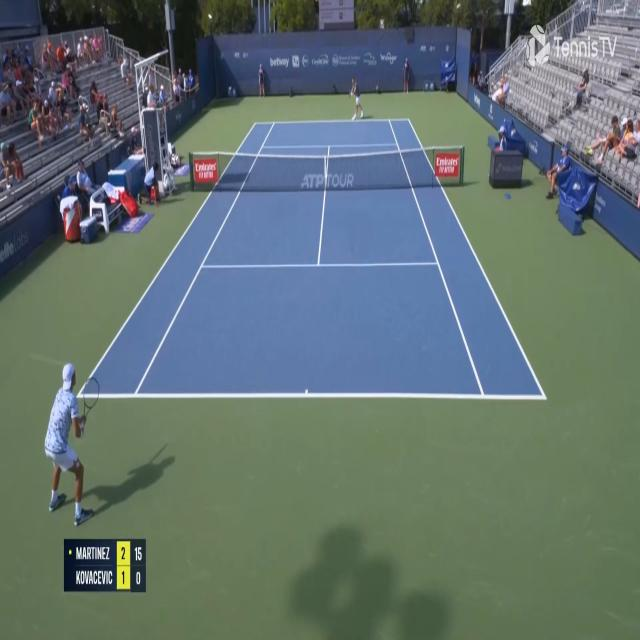tennis-player: (42, 354, 104, 530), (348, 76, 364, 123)
